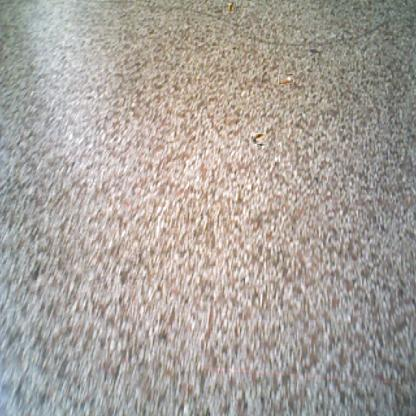dirty: (253, 133, 266, 145), (278, 74, 293, 84), (226, 2, 235, 10)
